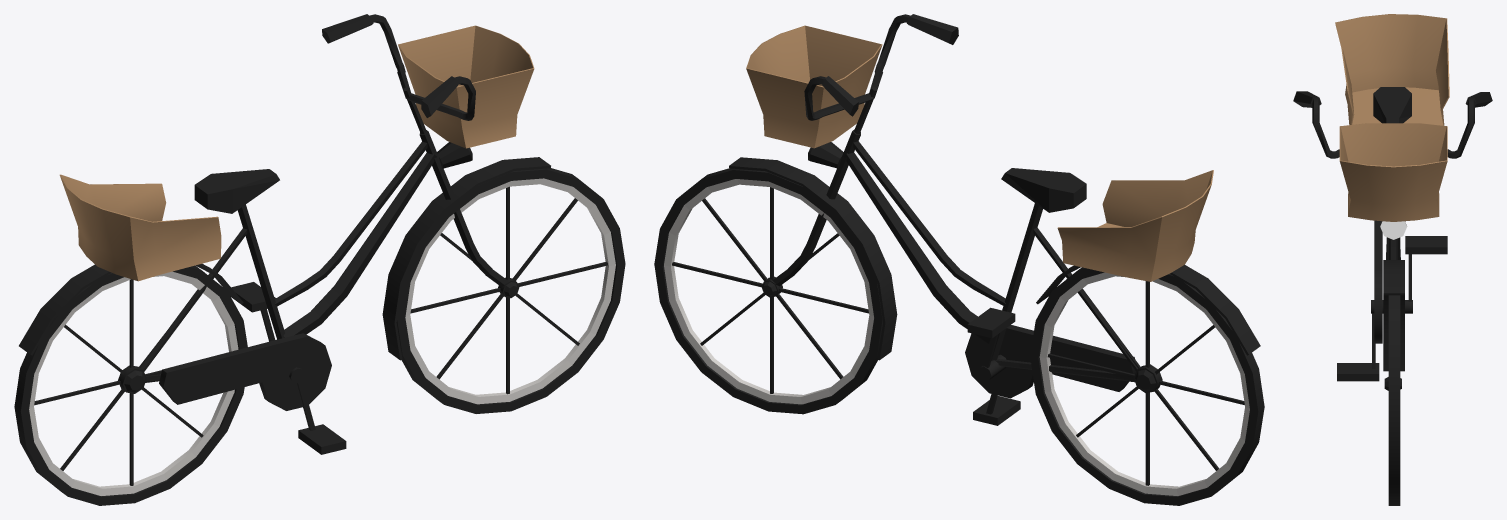
File: SM_citybike_black.fbx
3 views of the same model, side by side, from view 1: azimuth 30°, elevation 25°; view 2: azimuth 150°, elevation 25°; view 3: azimuth 270°, elevation 25° (orthographic). The views are drawn at different scales.
Visible parts, largest first — view 1: Box110; view 2: Box110; view 3: Box110.
Part boxes in pixels (x1,y1,x2,y2): Box110: (14,14,625,505); Box110: (654,14,1264,505); Box110: (1293,14,1492,505).
Bounding box in the file's own units: 101 × 31.54 × 61.8.
